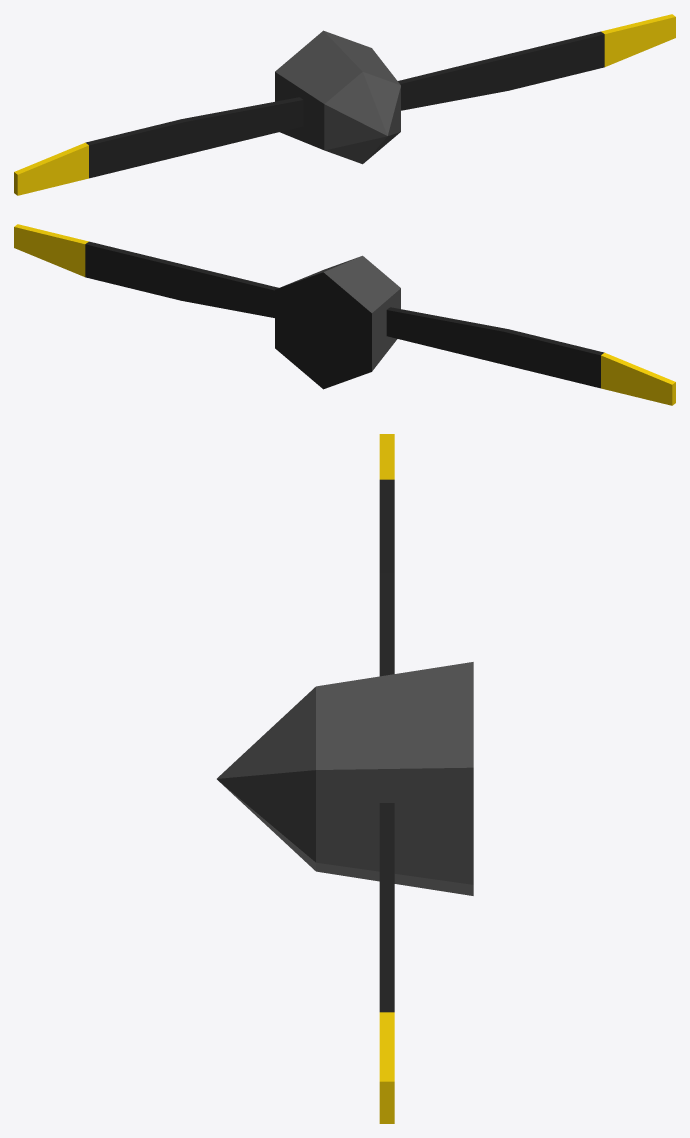
Rendered from Proto_Vehicle_Cessna_Plane_Prop_01.fbx.
The picture shows the model from 3 angles, top to bottom: view 1: azimuth 30°, elevation 25°; view 2: azimuth 150°, elevation 25°; view 3: azimuth 270°, elevation 25°; orthographic projection. The views are drawn at different scales.
Parts seen in each view (by area): view 1: Proto_Vehicle_Cessna_Plane_Prop_01; view 2: Proto_Vehicle_Cessna_Plane_Prop_01; view 3: Proto_Vehicle_Cessna_Plane_Prop_01.
Part boxes in pixels (x1,y1,x2,y2): Proto_Vehicle_Cessna_Plane_Prop_01: (14, 14, 675, 195); Proto_Vehicle_Cessna_Plane_Prop_01: (14, 224, 675, 405); Proto_Vehicle_Cessna_Plane_Prop_01: (217, 434, 473, 1123).
Size of the model in its own units: 2.29 by 0.39 by 0.388.
